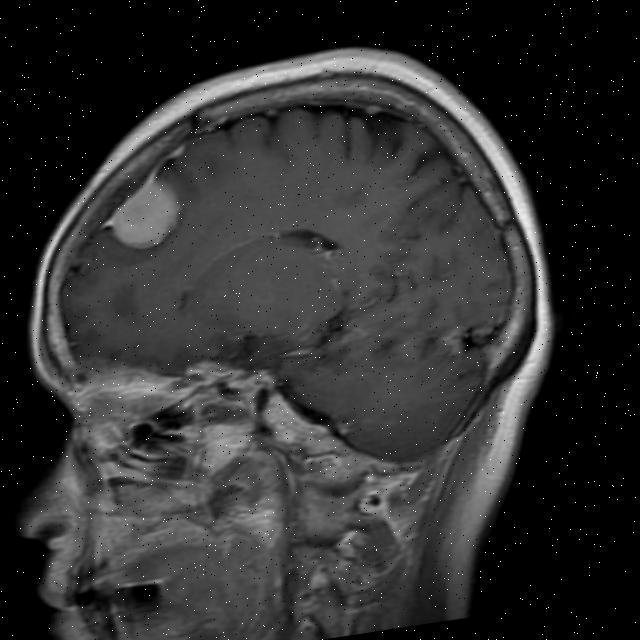Meningioma: (98, 174, 189, 255)
